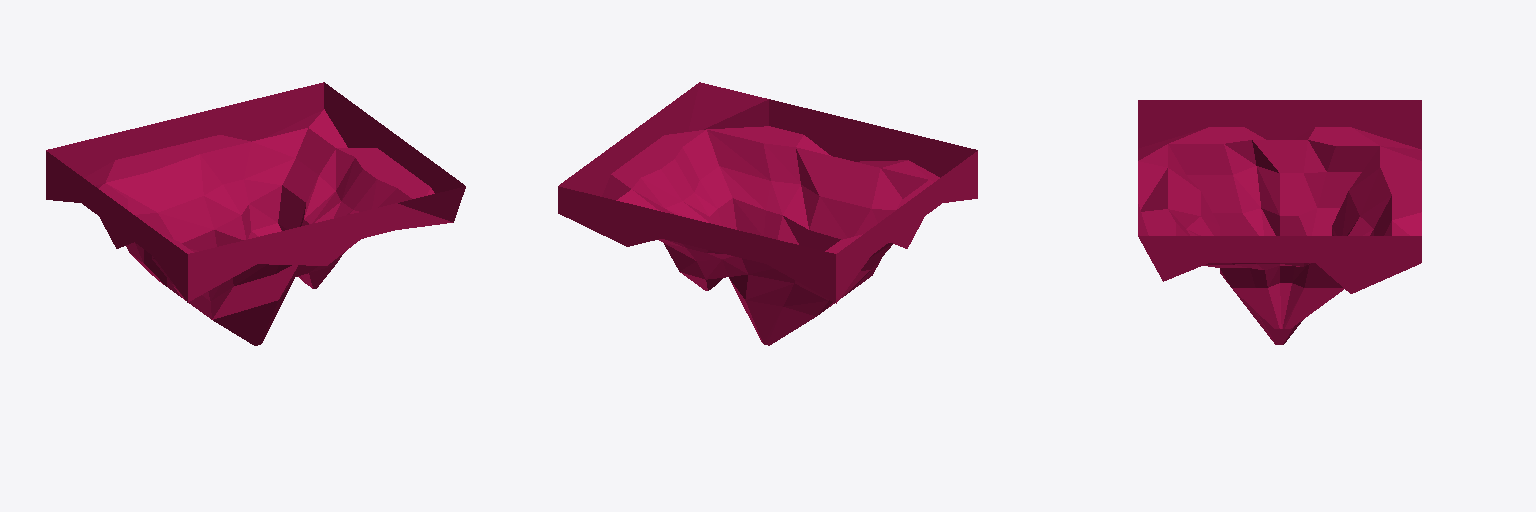
The model's file is Platform_Five_Bottom_OBJ.obj.
The picture shows the model from 3 angles: view 1: azimuth 30°, elevation 25°; view 2: azimuth 150°, elevation 25°; view 3: azimuth 270°, elevation 25°; orthographic projection.
Visible parts, largest first — view 1: Box001; view 2: Box001; view 3: Box001.
Boxes of the visible parts, x1,y1,x2,y2 form: Box001: [46, 82, 465, 345]; Box001: [558, 82, 977, 345]; Box001: [1138, 100, 1421, 344].
Bounding box in the file's own units: 108 × 65.03 × 95.35.